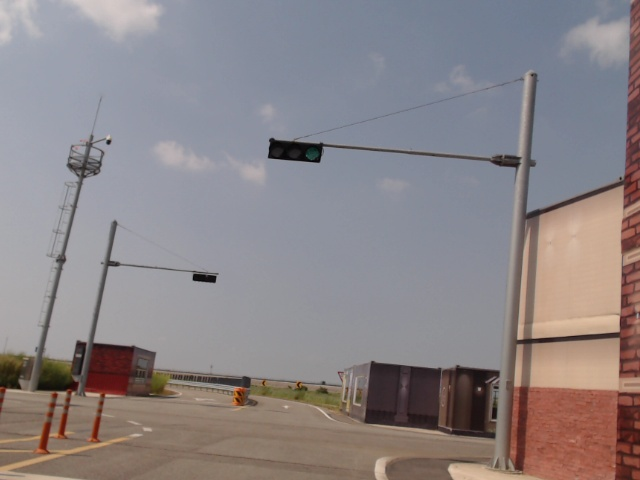green_3: (268, 139, 324, 164)
